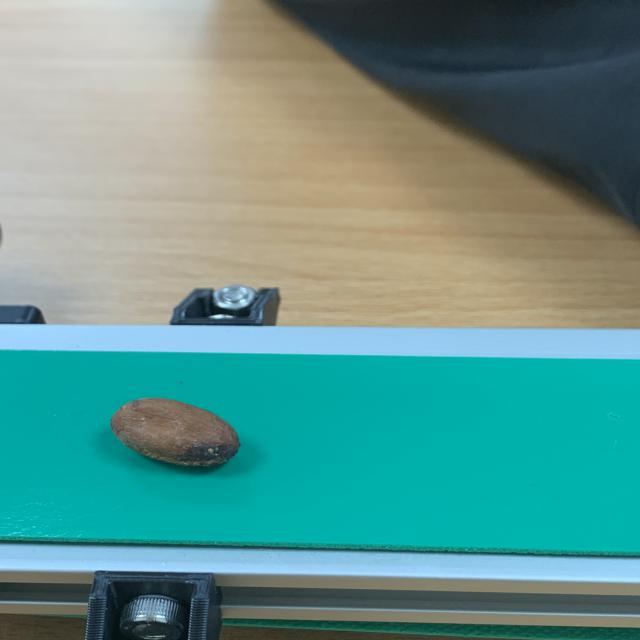Fine_cocoabeans: (28, 348, 400, 536)
